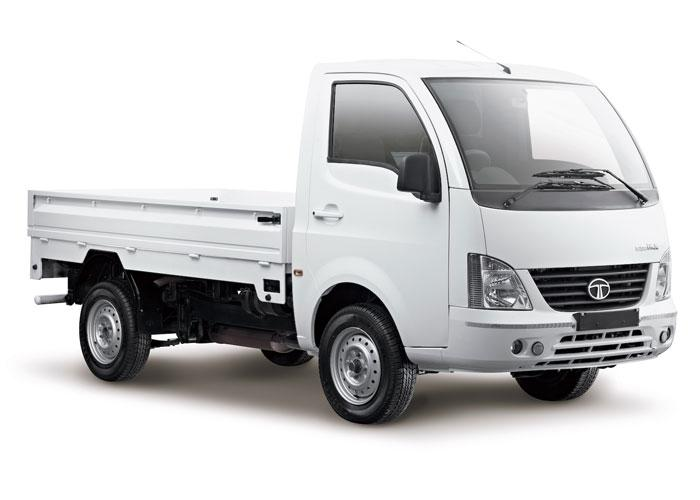truck: (26, 57, 677, 425)
